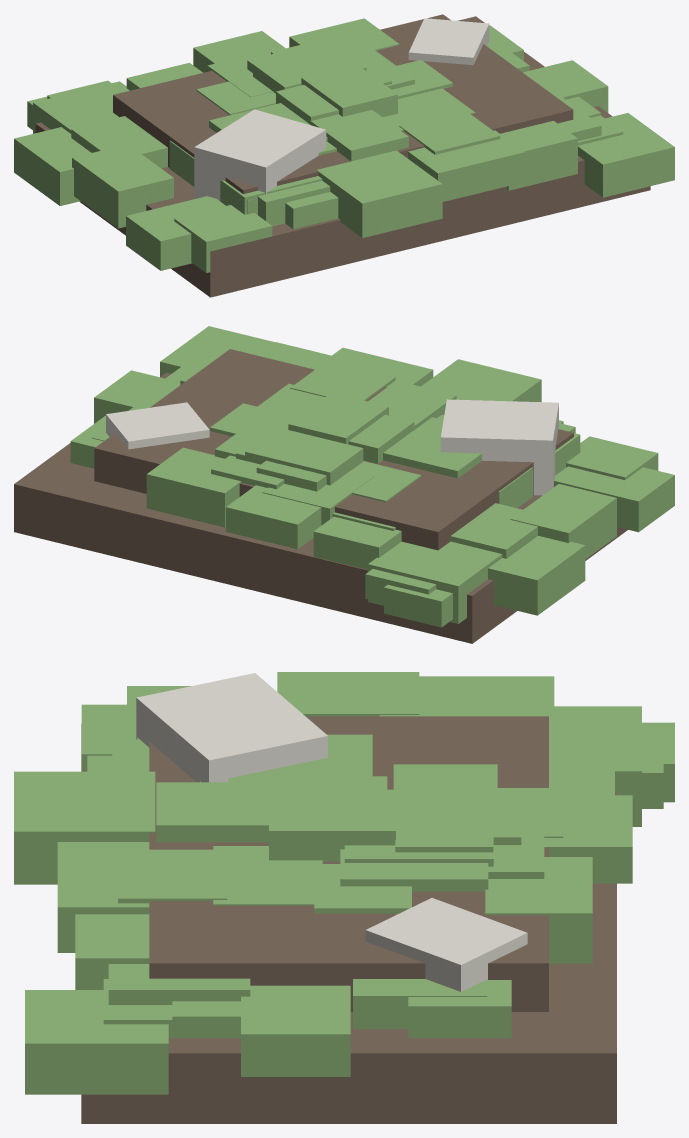
File: botanical-glasshouse-and-palm-house-botanical-glasshou-803cde25__38589.glb
3 renders of one model, top to bottom at view 1: azimuth 30°, elevation 25°; view 2: azimuth 150°, elevation 25°; view 3: azimuth 270°, elevation 25°, orthographic. The views are drawn at different scales.
Visible parts, largest first — view 1: botanical-glasshouse-and-palm-house-moss-bank; view 2: botanical-glasshouse-and-palm-house-moss-bank; view 3: botanical-glasshouse-and-palm-house-moss-bank.
Boxes of the visible parts, x1,y1,x2,y2 form: botanical-glasshouse-and-palm-house-moss-bank: (14, 14, 674, 297); botanical-glasshouse-and-palm-house-moss-bank: (14, 326, 674, 643); botanical-glasshouse-and-palm-house-moss-bank: (14, 672, 674, 1123).
Bounding box in the file's own units: 1.79 × 0.3439 × 1.36.
